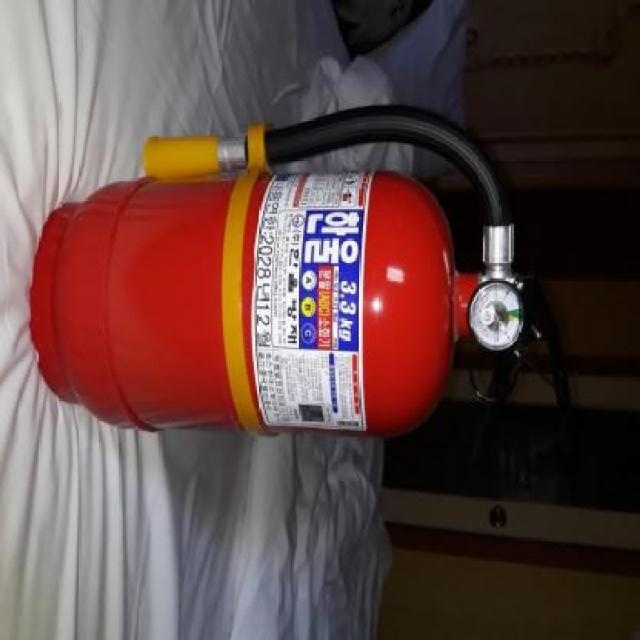fire extinguisher: (31, 105, 571, 457)
